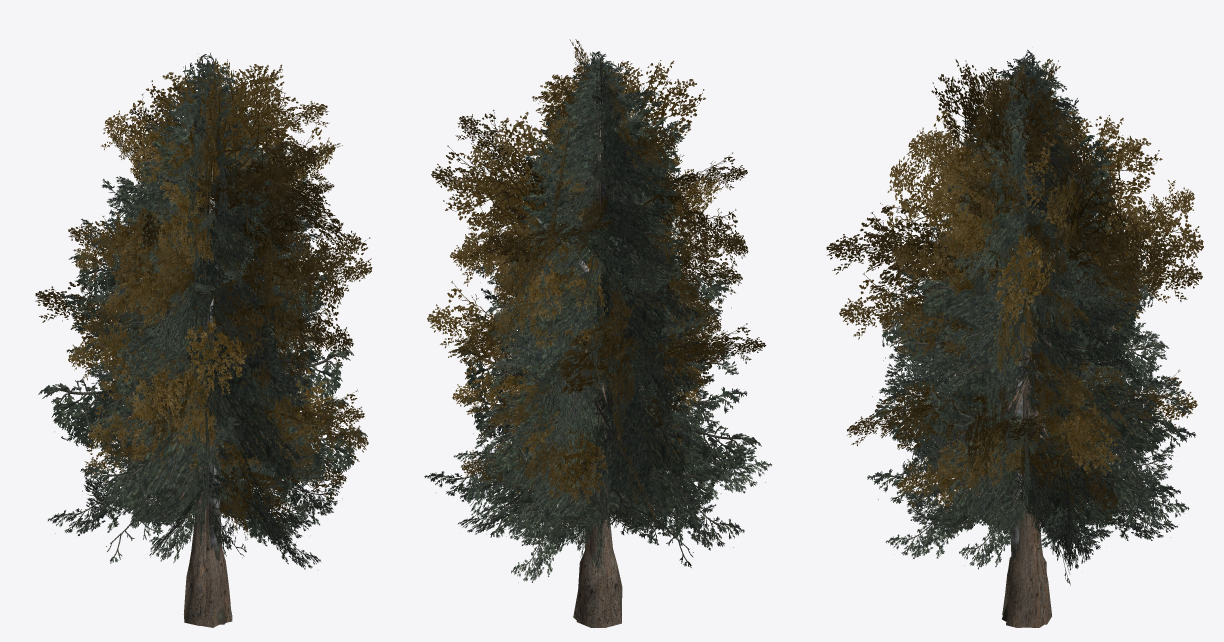
The model's file is prototypes.glb.
3 views of the same model, side by side, from view 1: azimuth 30°, elevation 25°; view 2: azimuth 150°, elevation 25°; view 3: azimuth 270°, elevation 25° (orthographic).
Parts seen in each view (by area): view 1: forest-tree-03, forest-tree-02, forest-tree-04, forest-tree-01; view 2: forest-tree-03, forest-tree-04, forest-tree-02, forest-tree-01; view 3: forest-tree-03, forest-tree-02, forest-tree-04, forest-tree-01.
Part boxes in pixels (bbox=[...]): forest-tree-03: bbox=[35, 57, 372, 624]; forest-tree-02: bbox=[54, 52, 367, 622]; forest-tree-04: bbox=[38, 54, 349, 625]; forest-tree-01: bbox=[124, 57, 293, 627]; forest-tree-03: bbox=[427, 39, 766, 520]; forest-tree-04: bbox=[453, 53, 771, 627]; forest-tree-02: bbox=[424, 51, 761, 623]; forest-tree-01: bbox=[501, 53, 699, 513]; forest-tree-03: bbox=[826, 55, 1203, 621]; forest-tree-02: bbox=[867, 55, 1195, 627]; forest-tree-04: bbox=[882, 49, 1180, 624]; forest-tree-01: bbox=[940, 53, 1104, 627].
Bounding box in the file's own units: 0.5879 × 1 × 0.6457.
8 materials, 8 textured.
